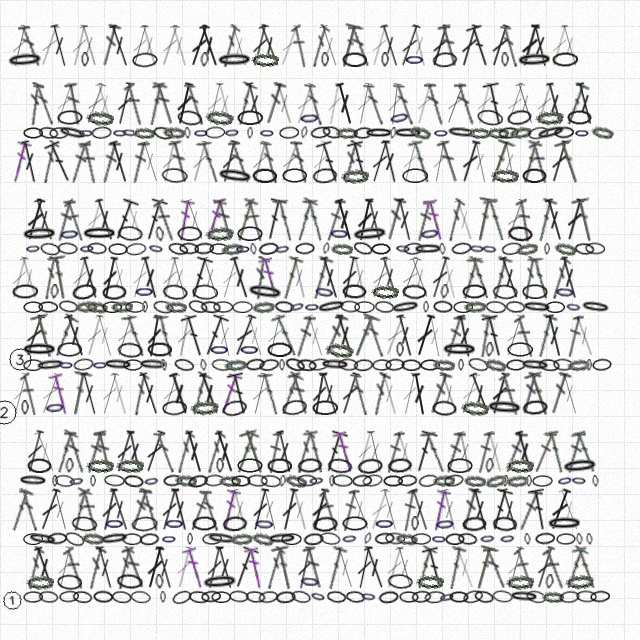chain: (216, 166, 254, 186), (246, 282, 284, 302), (6, 51, 44, 69), (351, 225, 389, 243), (561, 457, 599, 475), (201, 573, 239, 591), (486, 399, 523, 416), (535, 123, 567, 142), (216, 52, 253, 68), (516, 52, 553, 68), (21, 226, 58, 242), (57, 124, 88, 142), (81, 226, 118, 241), (21, 342, 58, 357), (441, 342, 478, 357), (546, 516, 583, 531), (221, 398, 248, 418), (476, 108, 504, 127), (316, 298, 347, 315), (325, 341, 354, 359), (506, 108, 533, 127), (71, 282, 98, 301), (281, 398, 308, 417), (390, 299, 421, 315), (580, 299, 611, 315), (27, 531, 58, 547), (205, 109, 234, 126), (535, 109, 564, 126), (205, 225, 234, 242), (190, 399, 219, 416), (565, 573, 594, 590), (176, 109, 203, 127), (71, 515, 98, 533), (162, 283, 188, 301), (327, 457, 353, 475), (357, 457, 383, 475), (446, 125, 477, 140), (99, 531, 130, 546), (206, 531, 237, 546), (161, 167, 188, 184), (116, 573, 143, 590), (86, 110, 114, 126), (341, 168, 369, 184), (461, 400, 489, 416), (26, 574, 54, 590), (506, 574, 534, 590), (432, 51, 458, 68), (312, 167, 338, 184), (117, 225, 143, 242), (507, 225, 533, 242), (522, 399, 548, 416), (297, 457, 323, 474), (387, 457, 413, 474), (222, 515, 248, 532), (387, 573, 413, 590), (388, 108, 411, 127), (35, 358, 66, 372), (484, 472, 508, 490), (131, 516, 158, 532), (251, 52, 279, 67), (491, 168, 519, 183), (371, 284, 399, 299), (522, 300, 552, 314), (520, 358, 550, 372), (86, 458, 114, 473), (116, 458, 144, 473), (506, 458, 534, 473), (416, 574, 444, 589), (132, 52, 158, 68), (192, 284, 218, 300), (492, 284, 518, 300), (117, 342, 143, 358), (312, 516, 338, 532), (492, 516, 518, 532), (313, 283, 336, 301), (63, 530, 86, 548), (408, 124, 432, 141), (102, 284, 127, 300), (402, 284, 427, 300), (162, 400, 187, 416), (432, 400, 457, 416), (462, 516, 487, 532), (57, 574, 82, 590), (171, 588, 193, 606), (467, 356, 490, 373), (552, 52, 578, 67), (57, 110, 83, 125), (237, 110, 263, 125), (402, 168, 428, 183), (237, 226, 263, 241), (12, 284, 38, 299), (522, 284, 548, 299), (507, 342, 533, 357), (103, 358, 133, 371), (138, 358, 168, 371), (320, 358, 350, 371), (312, 400, 338, 415), (237, 458, 263, 473), (447, 458, 473, 473), (18, 474, 48, 487), (342, 516, 368, 531), (267, 532, 297, 545), (509, 590, 539, 603), (515, 241, 539, 257), (284, 473, 308, 489), (251, 531, 275, 547), (342, 52, 367, 67), (567, 110, 592, 125), (252, 168, 277, 183), (282, 168, 307, 183), (522, 168, 547, 183), (177, 226, 202, 241), (342, 284, 367, 299), (462, 284, 487, 299), (57, 342, 82, 357), (147, 342, 172, 357), (267, 342, 292, 357), (27, 458, 52, 473), (267, 458, 292, 473), (192, 516, 217, 531), (321, 124, 343, 141), (419, 225, 441, 242), (352, 240, 374, 257), (187, 298, 209, 315), (284, 356, 306, 373), (44, 399, 66, 416), (299, 573, 321, 590), (462, 588, 484, 605), (527, 125, 550, 141), (554, 241, 577, 257), (152, 299, 175, 315), (484, 357, 507, 373), (364, 127, 394, 139), (393, 127, 423, 139), (413, 243, 443, 255), (152, 125, 174, 141), (39, 241, 61, 257), (167, 241, 189, 257), (554, 284, 576, 300), (173, 357, 195, 373), (258, 357, 280, 373), (187, 473, 209, 489), (434, 516, 456, 532), (290, 589, 312, 605), (473, 589, 495, 605), (525, 589, 547, 605), (509, 125, 532, 140), (591, 125, 614, 140), (299, 110, 320, 126), (59, 226, 80, 242), (254, 516, 275, 532), (501, 241, 523, 256), (308, 357, 330, 372), (443, 473, 465, 488), (319, 531, 341, 546), (221, 242, 244, 256), (85, 300, 108, 314), (252, 300, 275, 314), (224, 358, 247, 372), (567, 358, 590, 372), (506, 474, 529, 488), (230, 532, 253, 546), (395, 532, 418, 546), (404, 52, 425, 67), (310, 125, 331, 140), (329, 226, 350, 241), (258, 241, 279, 256), (451, 241, 472, 256), (134, 284, 155, 299), (58, 299, 79, 314), (209, 342, 230, 357), (239, 342, 260, 357), (73, 357, 94, 372), (245, 357, 266, 372), (362, 473, 383, 488), (418, 473, 439, 488), (104, 516, 125, 531), (164, 516, 185, 531), (374, 516, 395, 531), (492, 589, 513, 604), (125, 242, 147, 256), (485, 300, 507, 314), (211, 358, 233, 372), (538, 358, 560, 372), (260, 474, 282, 488), (188, 590, 210, 604), (424, 590, 446, 604), (75, 300, 98, 313), (38, 126, 59, 140), (353, 126, 374, 140), (498, 126, 519, 140), (574, 242, 595, 256), (200, 300, 221, 314), (274, 300, 295, 314), (374, 300, 395, 314), (505, 300, 526, 314), (296, 358, 317, 372), (353, 358, 374, 372), (54, 474, 75, 488), (123, 474, 144, 488), (139, 532, 160, 546), (303, 532, 324, 546), (457, 532, 478, 546), (38, 590, 59, 604), (72, 590, 93, 604), (111, 590, 132, 604), (130, 590, 151, 604), (245, 590, 266, 604), (258, 590, 279, 604), (275, 590, 296, 604), (326, 590, 347, 604), (345, 590, 366, 604), (378, 590, 399, 604), (559, 590, 580, 604), (163, 126, 185, 139), (111, 300, 133, 313), (464, 300, 486, 313), (175, 474, 197, 487), (433, 474, 455, 487), (82, 532, 104, 545), (91, 126, 112, 139), (57, 242, 78, 255), (403, 242, 424, 255), (104, 474, 125, 487), (247, 474, 268, 487), (332, 474, 353, 487), (397, 474, 418, 487), (374, 532, 395, 545), (411, 590, 432, 603), (576, 590, 597, 603), (147, 241, 165, 256), (288, 299, 306, 314), (556, 473, 574, 488), (309, 589, 327, 604), (133, 127, 155, 139), (336, 127, 358, 139), (468, 127, 490, 139), (487, 127, 509, 139), (331, 243, 353, 255), (165, 301, 187, 313), (433, 359, 455, 371), (219, 475, 241, 487), (464, 475, 486, 487), (542, 591, 564, 603), (205, 126, 225, 139), (279, 126, 299, 139), (554, 126, 574, 139), (87, 242, 107, 255), (179, 242, 199, 255), (194, 242, 214, 255), (295, 242, 315, 255), (585, 242, 605, 255), (340, 300, 360, 313), (433, 300, 453, 313), (338, 358, 358, 371), (385, 358, 405, 371), (553, 358, 573, 371), (592, 358, 612, 371), (163, 474, 183, 487), (204, 474, 224, 487), (297, 474, 317, 487), (352, 474, 372, 487), (47, 532, 67, 545), (385, 532, 405, 545), (535, 532, 555, 545), (59, 590, 79, 603), (93, 590, 113, 603), (201, 590, 221, 603), (229, 590, 249, 603), (590, 590, 610, 603), (232, 301, 253, 313), (354, 301, 375, 313), (532, 475, 553, 487), (281, 533, 302, 545), (438, 590, 456, 604), (23, 127, 43, 139), (49, 127, 69, 139), (108, 243, 128, 255), (209, 243, 229, 255), (371, 243, 391, 255), (23, 301, 43, 313), (38, 301, 58, 313), (102, 301, 122, 313), (125, 301, 145, 313), (213, 301, 233, 313), (453, 301, 473, 313), (545, 301, 565, 313), (23, 359, 43, 371), (123, 359, 143, 371), (372, 359, 392, 371), (401, 359, 421, 371), (420, 359, 440, 371), (506, 359, 526, 371), (231, 475, 251, 487), (383, 475, 403, 487), (23, 533, 43, 545), (122, 533, 142, 545), (202, 533, 222, 545), (411, 533, 431, 545), (445, 533, 465, 545), (556, 533, 576, 545), (23, 591, 43, 603), (211, 591, 231, 603), (399, 591, 419, 603), (449, 591, 469, 603), (274, 242, 291, 256), (481, 242, 498, 256), (565, 300, 582, 314), (68, 474, 85, 488), (143, 474, 160, 488), (121, 126, 138, 139), (308, 474, 325, 487), (341, 532, 358, 545), (479, 532, 496, 545), (499, 532, 516, 545), (360, 590, 377, 603), (224, 126, 240, 139), (25, 242, 41, 255), (79, 242, 95, 255), (395, 242, 411, 255), (469, 242, 485, 255), (571, 474, 587, 487), (78, 127, 94, 139), (112, 127, 128, 139), (193, 127, 209, 139), (259, 127, 275, 139), (433, 127, 449, 139), (574, 127, 590, 139), (235, 243, 251, 255), (304, 301, 320, 313), (58, 359, 74, 371), (92, 359, 108, 371), (161, 533, 177, 545), (431, 533, 447, 545), (155, 226, 165, 242), (200, 52, 209, 67), (50, 284, 59, 299), (440, 284, 449, 299), (485, 342, 494, 357), (65, 458, 74, 473), (485, 458, 494, 473), (155, 574, 164, 589), (545, 574, 554, 589), (81, 52, 89, 67), (321, 52, 329, 67), (381, 52, 389, 67), (501, 52, 509, 67), (396, 342, 404, 357), (21, 400, 29, 415), (216, 458, 224, 473), (411, 516, 419, 531), (363, 532, 372, 545), (300, 126, 308, 139), (322, 242, 330, 255), (389, 127, 397, 139), (160, 359, 168, 371), (184, 127, 191, 139), (250, 243, 257, 255), (439, 243, 446, 255), (200, 359, 207, 371), (279, 475, 286, 487), (502, 475, 509, 487), (592, 475, 599, 487), (524, 533, 531, 545), (576, 533, 583, 545), (586, 533, 593, 545), (247, 127, 253, 139), (544, 243, 550, 255), (142, 301, 148, 313), (423, 301, 429, 313), (279, 359, 285, 371), (458, 359, 464, 371), (586, 359, 592, 371), (52, 475, 58, 487), (90, 475, 96, 487), (329, 475, 335, 487), (526, 475, 532, 487), (187, 533, 193, 545), (160, 591, 166, 603)
double: (43, 139, 77, 185), (348, 313, 381, 359), (484, 139, 516, 185), (554, 139, 585, 185), (109, 197, 140, 243), (199, 313, 230, 359), (524, 371, 555, 417), (239, 429, 270, 475), (229, 545, 260, 591), (49, 313, 80, 358), (465, 23, 495, 69), (315, 139, 345, 185), (560, 81, 590, 126), (270, 313, 300, 358), (275, 371, 305, 416), (230, 429, 260, 474), (560, 545, 590, 590), (335, 23, 364, 69), (140, 197, 169, 243), (185, 255, 214, 301), (30, 313, 59, 359), (180, 313, 209, 359), (320, 429, 349, 475), (410, 429, 439, 475), (470, 545, 499, 591), (230, 197, 259, 242), (230, 313, 259, 358), (420, 429, 449, 474), (570, 429, 599, 474), (5, 487, 34, 532), (555, 487, 584, 532), (346, 139, 374, 185), (571, 197, 599, 243), (486, 487, 514, 533), (421, 545, 449, 591), (256, 23, 284, 68), (81, 81, 109, 126), (441, 81, 469, 126), (501, 81, 529, 126), (276, 139, 304, 184), (291, 197, 319, 242), (501, 197, 529, 242), (276, 255, 304, 300), (306, 255, 334, 300), (396, 255, 424, 300), (406, 255, 434, 300), (456, 255, 484, 300), (466, 255, 494, 300), (61, 313, 89, 358), (121, 313, 149, 358), (321, 313, 349, 358), (381, 313, 409, 358), (36, 371, 64, 416), (466, 371, 494, 416), (31, 429, 59, 474), (51, 429, 79, 474), (346, 487, 374, 532), (546, 487, 574, 532), (121, 545, 149, 590), (361, 545, 389, 590), (451, 545, 479, 590), (571, 545, 599, 590), (481, 313, 508, 359), (271, 545, 298, 591), (36, 23, 63, 68), (106, 23, 133, 68), (186, 23, 213, 68), (196, 23, 223, 68), (226, 23, 253, 68), (276, 23, 303, 68), (316, 23, 343, 68), (396, 23, 423, 68), (51, 81, 78, 126), (196, 139, 223, 184), (436, 139, 463, 184), (516, 139, 543, 184), (31, 197, 58, 242), (121, 197, 148, 242), (181, 197, 208, 242), (261, 197, 288, 242), (451, 197, 478, 242), (471, 197, 498, 242), (531, 197, 558, 242), (486, 255, 513, 300), (496, 255, 523, 300), (21, 313, 48, 358), (501, 313, 528, 358), (531, 313, 558, 358), (571, 313, 598, 358), (66, 371, 93, 416), (136, 371, 163, 416), (166, 371, 193, 416), (186, 371, 213, 416), (196, 371, 223, 416), (216, 371, 243, 416), (226, 371, 253, 416), (426, 371, 453, 416), (436, 371, 463, 416), (456, 371, 483, 416), (141, 429, 168, 474), (36, 487, 63, 532), (366, 487, 393, 532), (31, 545, 58, 590), (321, 545, 348, 590), (411, 545, 438, 590), (516, 488, 543, 532), (541, 546, 568, 590), (157, 23, 183, 68), (377, 23, 403, 68), (427, 23, 453, 68), (487, 23, 513, 68), (517, 23, 543, 68), (92, 81, 118, 126), (142, 81, 168, 126), (152, 81, 178, 126), (232, 81, 258, 126), (292, 81, 318, 126), (482, 81, 508, 126), (512, 81, 538, 126), (137, 139, 163, 184), (367, 139, 393, 184), (407, 139, 433, 184), (457, 139, 483, 184), (22, 197, 48, 242), (92, 197, 118, 242), (482, 197, 508, 242), (47, 255, 73, 300), (77, 255, 103, 300), (197, 255, 223, 300), (227, 255, 253, 300), (317, 255, 343, 300), (367, 255, 393, 300), (377, 255, 403, 300), (427, 255, 453, 300), (527, 255, 553, 300), (302, 313, 328, 358), (332, 313, 358, 358), (412, 313, 438, 358), (157, 371, 183, 416), (257, 371, 283, 416), (287, 371, 313, 416), (337, 371, 363, 416), (212, 429, 238, 474), (392, 429, 418, 474), (67, 487, 93, 532), (107, 487, 133, 532), (127, 487, 153, 532), (407, 487, 433, 532), (332, 545, 358, 590), (532, 545, 558, 590), (152, 198, 178, 242), (502, 430, 528, 474), (47, 23, 72, 68), (77, 23, 102, 68), (127, 23, 152, 68), (137, 23, 162, 68), (167, 23, 192, 68), (367, 23, 392, 68), (437, 23, 462, 68), (457, 23, 482, 68), (547, 23, 572, 68), (557, 23, 582, 68), (262, 81, 287, 126), (272, 81, 297, 126), (412, 81, 437, 126), (532, 81, 557, 126), (107, 139, 132, 184), (547, 139, 572, 184), (202, 197, 227, 242), (272, 197, 297, 242), (302, 197, 327, 242), (332, 197, 357, 242), (542, 197, 567, 242), (562, 197, 587, 242), (7, 255, 32, 300), (17, 255, 42, 300), (127, 255, 152, 300), (167, 255, 192, 300), (217, 255, 242, 300), (557, 255, 582, 300), (82, 313, 107, 358), (92, 313, 117, 358), (112, 313, 137, 358), (242, 313, 267, 358), (77, 371, 102, 416), (97, 371, 122, 416), (107, 371, 132, 416), (317, 371, 342, 416), (377, 371, 402, 416), (487, 371, 512, 416), (547, 371, 572, 416), (557, 371, 582, 416), (112, 429, 137, 474), (182, 429, 207, 474), (302, 429, 327, 474), (332, 429, 357, 474), (512, 429, 537, 474), (157, 487, 182, 532), (307, 487, 332, 532), (377, 487, 402, 532), (497, 487, 522, 532), (527, 487, 552, 532), (152, 545, 177, 590), (182, 545, 207, 590), (302, 545, 327, 590), (382, 545, 407, 590), (392, 545, 417, 590), (442, 545, 467, 590), (532, 430, 557, 474), (62, 546, 87, 590), (512, 546, 537, 590), (98, 23, 122, 68), (248, 23, 272, 68), (528, 23, 552, 68), (213, 81, 237, 126), (333, 81, 357, 126), (543, 81, 567, 126), (573, 81, 597, 126), (8, 139, 32, 184), (168, 139, 192, 184), (188, 139, 212, 184), (248, 139, 272, 184), (378, 139, 402, 184), (398, 139, 422, 184), (83, 197, 107, 242), (213, 197, 237, 242), (383, 197, 407, 242), (423, 197, 447, 242), (68, 255, 92, 300), (138, 255, 162, 300), (158, 255, 182, 300), (258, 255, 282, 300), (153, 313, 177, 358), (263, 313, 287, 358), (393, 313, 417, 358), (8, 371, 32, 416), (48, 371, 72, 416), (518, 371, 542, 416), (23, 429, 47, 474), (353, 429, 377, 474), (483, 429, 507, 474), (543, 429, 567, 474), (48, 487, 72, 532), (168, 487, 192, 532), (228, 487, 252, 532), (248, 487, 272, 532), (288, 487, 312, 532), (458, 487, 482, 532), (468, 487, 492, 532), (53, 545, 77, 590), (93, 545, 117, 590), (143, 545, 167, 590), (213, 545, 237, 590), (503, 545, 527, 590), (18, 24, 42, 68), (338, 140, 362, 184), (63, 198, 87, 242), (548, 256, 572, 300), (513, 314, 537, 358), (498, 372, 522, 416), (153, 430, 177, 474), (203, 430, 227, 474), (188, 488, 212, 532), (83, 546, 107, 590), (483, 546, 507, 590), (8, 23, 31, 68), (68, 23, 91, 68), (408, 23, 431, 68), (113, 81, 136, 126), (173, 81, 196, 126), (203, 81, 226, 126), (243, 81, 266, 126), (353, 81, 376, 126), (473, 81, 496, 126), (18, 139, 41, 184), (158, 139, 181, 184), (218, 139, 241, 184), (363, 197, 386, 242), (393, 197, 416, 242), (108, 255, 131, 300), (288, 255, 311, 300), (338, 255, 361, 300), (438, 255, 461, 300), (213, 313, 236, 358), (473, 313, 496, 358), (543, 313, 566, 358), (248, 371, 271, 416), (398, 371, 421, 416), (93, 429, 116, 474), (273, 429, 296, 474), (98, 487, 121, 532), (218, 487, 241, 532), (258, 487, 281, 532), (278, 487, 301, 532), (438, 487, 461, 532), (173, 545, 196, 590), (203, 545, 226, 590), (353, 545, 376, 590), (308, 24, 331, 68), (348, 24, 371, 68), (33, 82, 56, 126), (123, 82, 146, 126), (363, 82, 386, 126), (393, 82, 416, 126), (68, 140, 91, 184), (228, 140, 251, 184), (528, 140, 551, 184), (293, 314, 316, 358), (443, 314, 466, 358), (368, 372, 391, 416), (173, 430, 196, 474), (293, 430, 316, 474), (443, 430, 466, 474), (78, 488, 101, 532), (318, 488, 341, 532), (263, 546, 286, 590), (429, 139, 451, 184), (364, 429, 386, 474), (244, 545, 266, 590), (219, 24, 241, 68), (184, 82, 206, 126), (454, 82, 476, 126), (99, 140, 121, 184), (309, 140, 331, 184), (469, 140, 491, 184), (54, 198, 76, 242), (244, 198, 266, 242), (324, 198, 346, 242), (354, 198, 376, 242), (444, 198, 466, 242), (99, 256, 121, 300), (349, 256, 371, 300), (364, 314, 386, 358), (64, 430, 86, 474), (84, 430, 106, 474), (124, 430, 146, 474), (454, 430, 476, 474), (564, 430, 586, 474), (199, 488, 221, 532), (429, 488, 451, 532), (294, 546, 316, 590), (64, 82, 85, 126), (304, 82, 325, 126), (324, 82, 345, 126), (424, 82, 445, 126), (39, 140, 60, 184), (79, 140, 100, 184), (129, 140, 150, 184), (499, 140, 520, 184), (174, 198, 195, 242), (414, 198, 435, 242), (144, 314, 165, 358), (174, 314, 195, 358), (424, 314, 445, 358), (454, 314, 475, 358), (19, 372, 40, 416), (309, 372, 330, 416), (409, 372, 430, 416), (384, 430, 405, 474), (19, 488, 40, 532), (139, 488, 160, 532), (24, 546, 45, 590), (114, 546, 135, 590), (290, 24, 310, 68), (500, 24, 520, 68), (260, 140, 280, 184), (40, 256, 60, 300), (250, 256, 270, 300), (130, 372, 150, 416), (350, 372, 370, 416), (475, 430, 495, 474), (340, 488, 360, 532), (25, 82, 44, 126), (385, 82, 404, 126), (290, 140, 309, 184), (515, 198, 534, 242), (520, 256, 539, 300), (565, 314, 584, 358), (266, 430, 284, 474), (401, 488, 418, 532)
noise: (7, 346, 33, 372), (0, 588, 25, 613), (0, 398, 18, 426)
